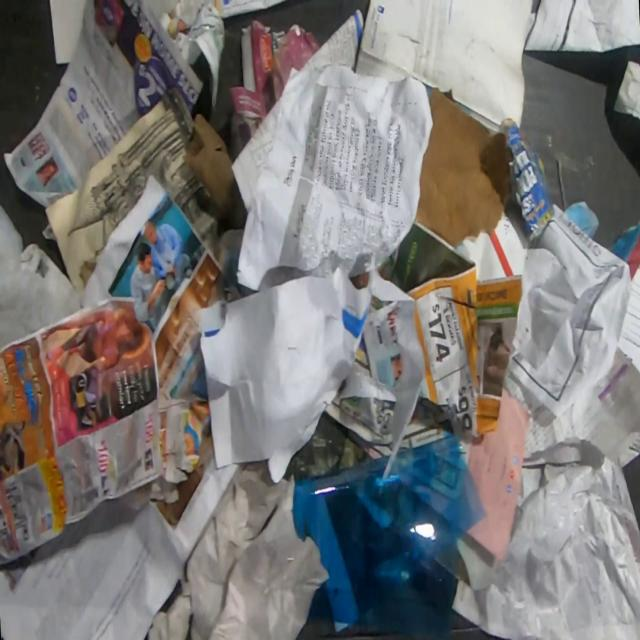cardboard: (500, 116, 556, 246)
soft_plastic: (292, 430, 488, 640), (146, 458, 327, 640), (0, 200, 95, 347)
